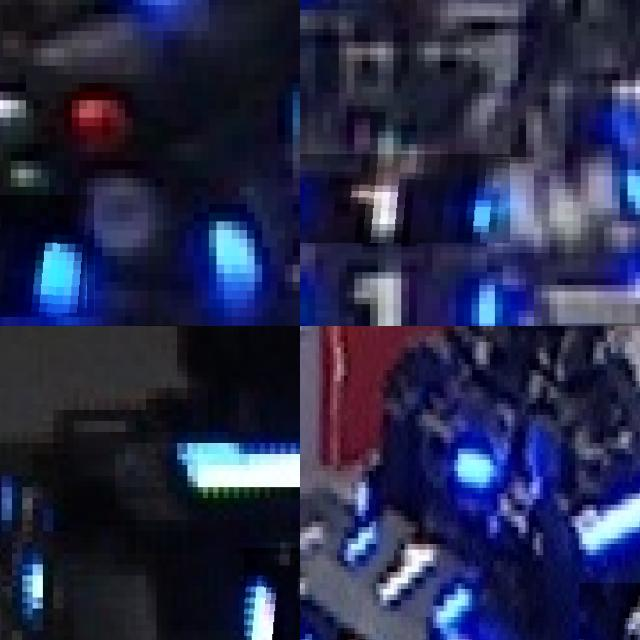B1: (300, 153, 510, 243), (340, 504, 476, 634), (300, 265, 522, 326), (0, 195, 94, 316), (244, 548, 300, 640), (579, 583, 640, 640)
